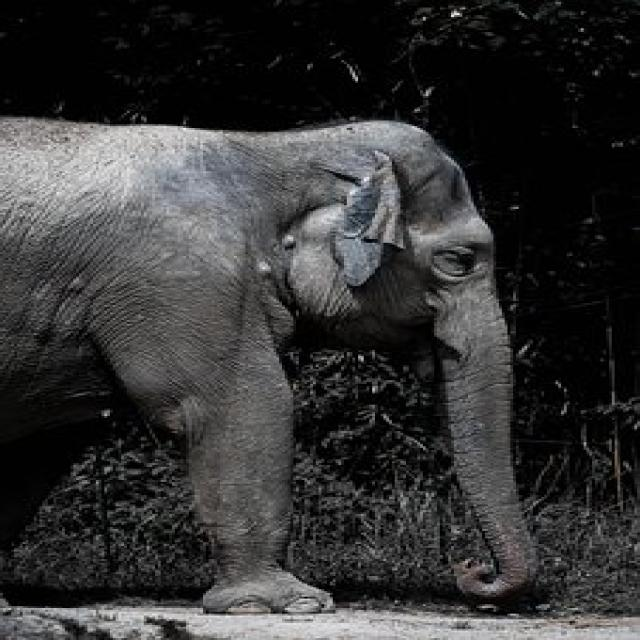Elephant: (6, 103, 576, 624)
